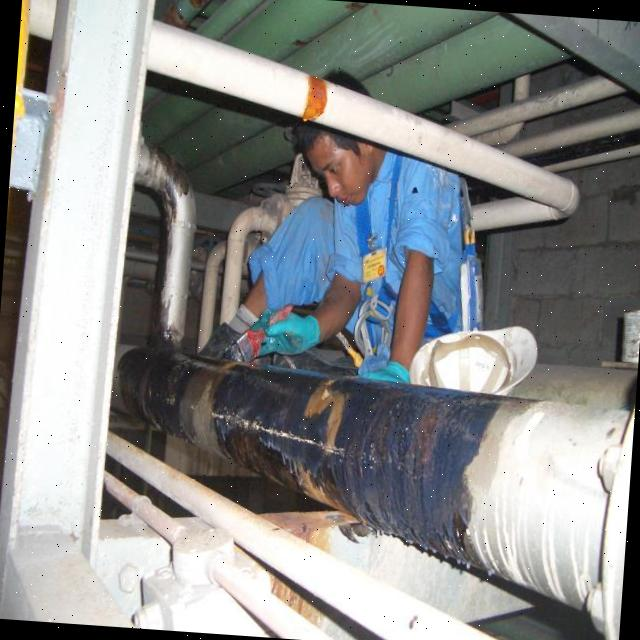Corrosion: (98, 331, 635, 640)
